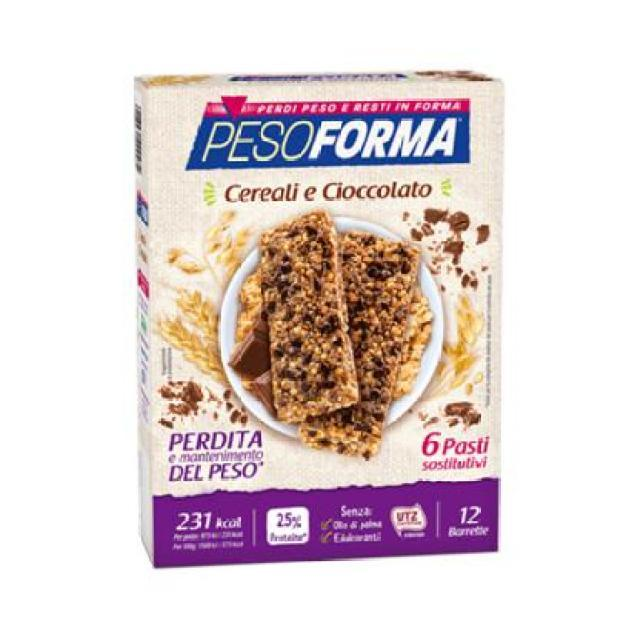Cereal bar: (120, 69, 512, 577)
